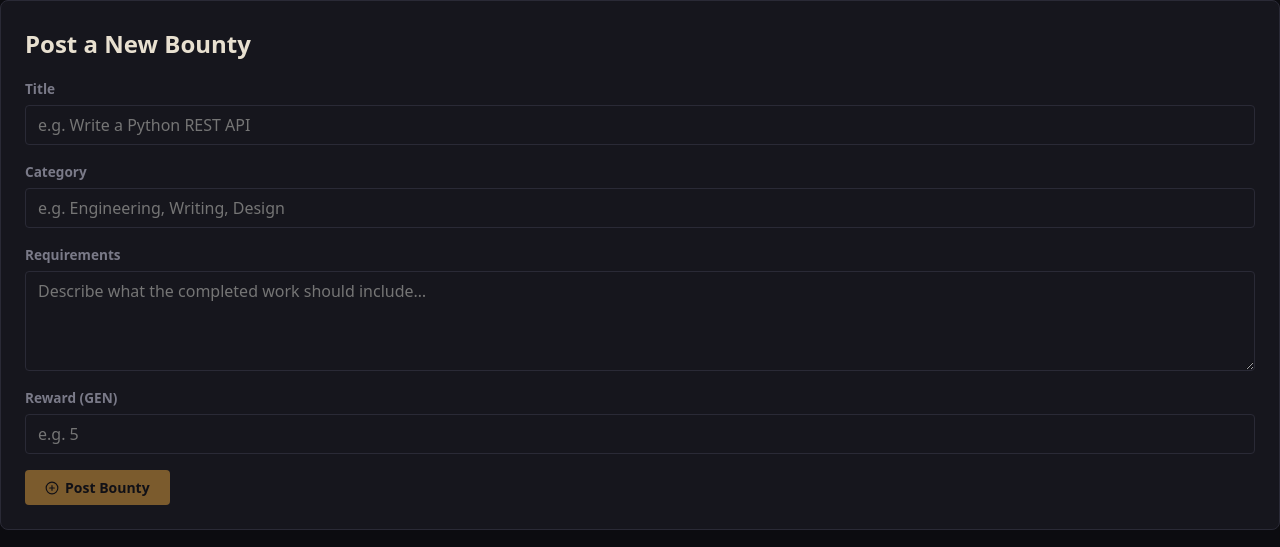
Test: CreateBounty › enables submit button when form is valid
The image size is (1280, 547).
Type "Build a REST API" into the field with test id "create-bounty-title" at (640, 125), box [25, 105, 1255, 145]
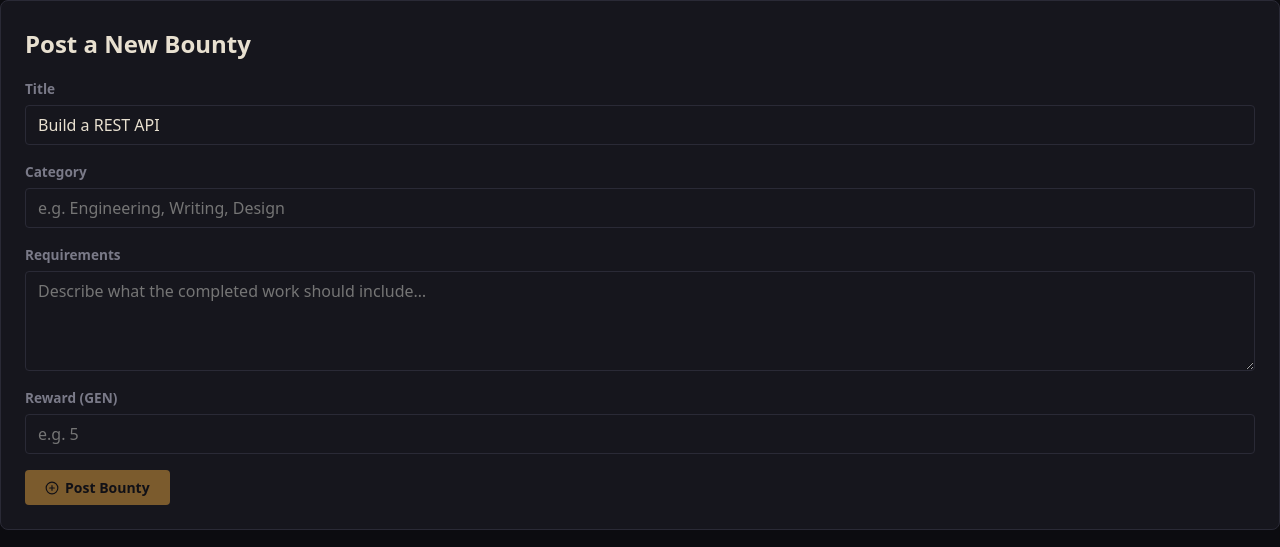
Type "Engineering" into the field with test id "create-bounty-category" at (640, 208), box [25, 188, 1255, 228]
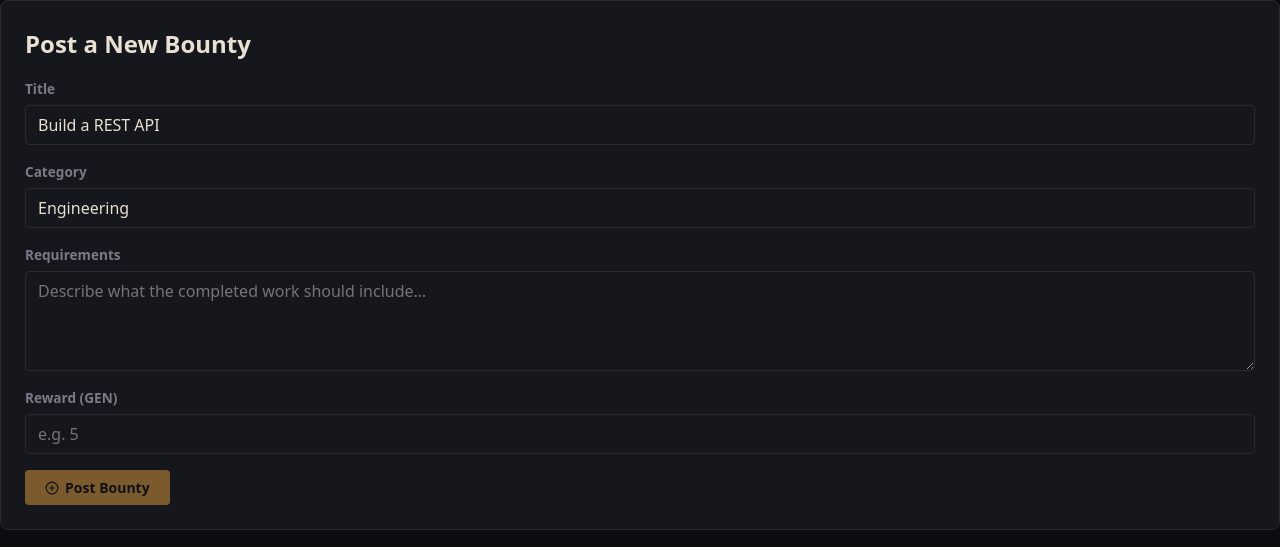
Type "Create a Python REST API with FastAPI and tests" into the text box with test id "create-bounty-requirements" at (640, 321), box [25, 271, 1255, 371]
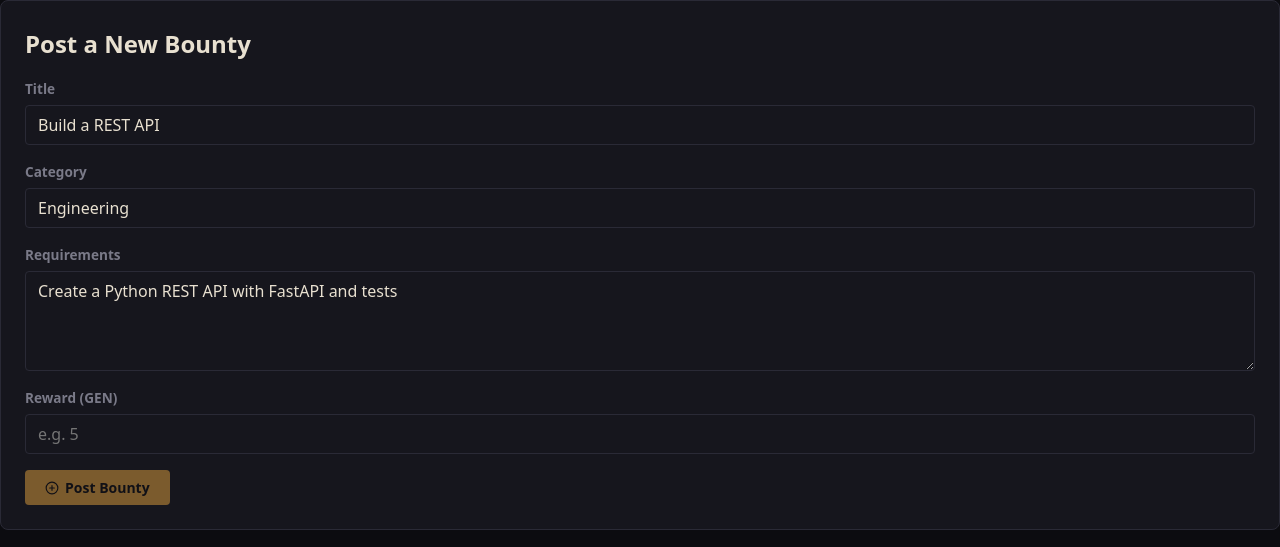
Type "5" into the number field with test id "create-bounty-reward" at (640, 434), box [25, 414, 1255, 454]
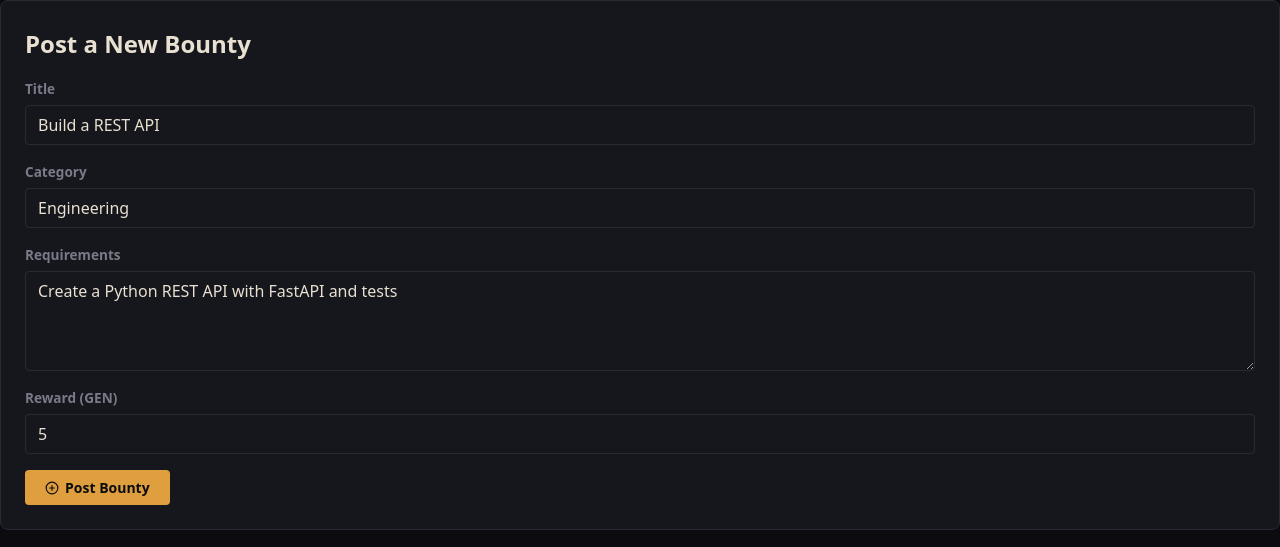
Expected: the button with test id "bounty-create" is enabled, [25, 470, 170, 505]
